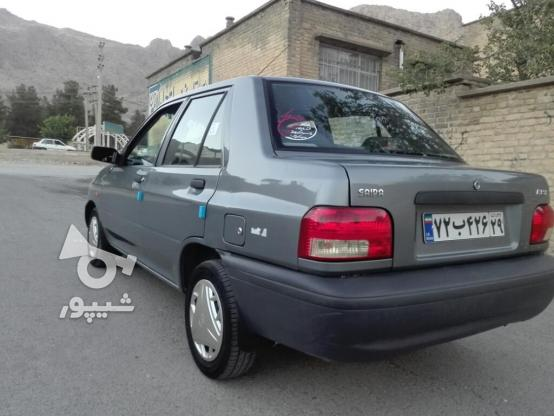car: (422, 211, 506, 244)
